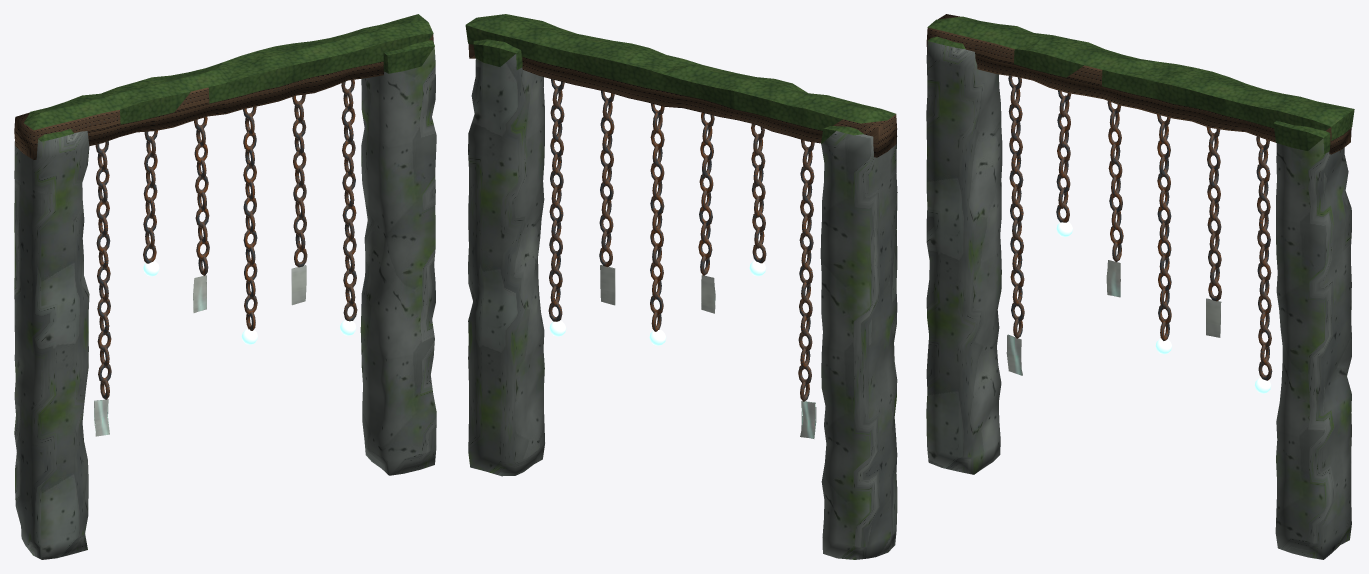
Rendered from hanging_altar_chains.glb.
3 renders of one model, left to right at view 1: azimuth 30°, elevation 25°; view 2: azimuth 150°, elevation 25°; view 3: azimuth 330°, elevation 25°, orthographic.
Parts seen in each view (by area): view 1: hanging_altar_chains__stone_block, hanging_altar_chains__moss, hanging_altar_chains__iron, hanging_altar_chains__wood_dark, hanging_altar_chains__silk, hanging_altar_chains__glow_core; view 2: hanging_altar_chains__stone_block, hanging_altar_chains__moss, hanging_altar_chains__iron, hanging_altar_chains__wood_dark, hanging_altar_chains__silk, hanging_altar_chains__glow_core; view 3: hanging_altar_chains__stone_block, hanging_altar_chains__moss, hanging_altar_chains__iron, hanging_altar_chains__wood_dark, hanging_altar_chains__silk, hanging_altar_chains__glow_core.
Boxes of the visible parts, x1,y1,x2,y2 form: hanging_altar_chains__stone_block: [14, 47, 436, 559]; hanging_altar_chains__moss: [24, 14, 434, 141]; hanging_altar_chains__iron: [95, 79, 357, 399]; hanging_altar_chains__wood_dark: [14, 34, 433, 159]; hanging_altar_chains__silk: [94, 265, 306, 436]; hanging_altar_chains__glow_core: [143, 261, 356, 344]; hanging_altar_chains__stone_block: [468, 54, 897, 559]; hanging_altar_chains__moss: [465, 14, 895, 143]; hanging_altar_chains__iron: [548, 79, 814, 401]; hanging_altar_chains__wood_dark: [468, 44, 897, 157]; hanging_altar_chains__silk: [600, 265, 816, 438]; hanging_altar_chains__glow_core: [549, 260, 766, 345]; hanging_altar_chains__stone_block: [926, 41, 1351, 559]; hanging_altar_chains__moss: [927, 16, 1354, 154]; hanging_altar_chains__iron: [1008, 76, 1272, 380]; hanging_altar_chains__wood_dark: [926, 14, 1351, 154]; hanging_altar_chains__silk: [1006, 260, 1221, 375]; hanging_altar_chains__glow_core: [1056, 221, 1271, 393].
Bounding box in the file's own units: 2.81 × 2.9 × 0.3638.
Materials: 6 (5 with a texture image).
